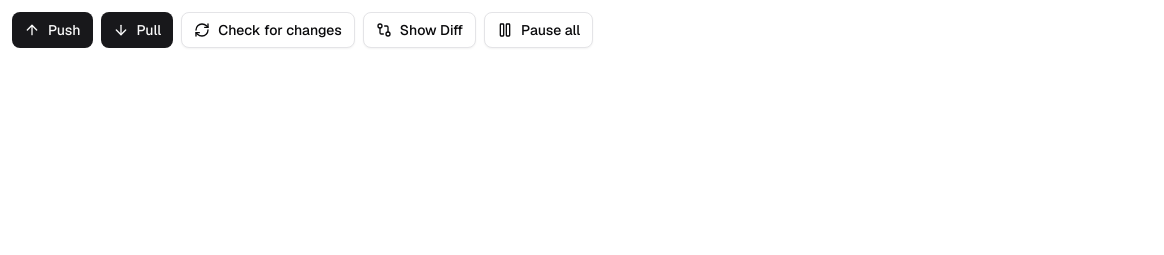
SyncControls diff delegation to ProfileDiffTabs › hides ProfileDiffTabs when Hide Diff is clicked
Click the button "Show Diff" at (419, 30), box left=363, top=12, right=476, bottom=48
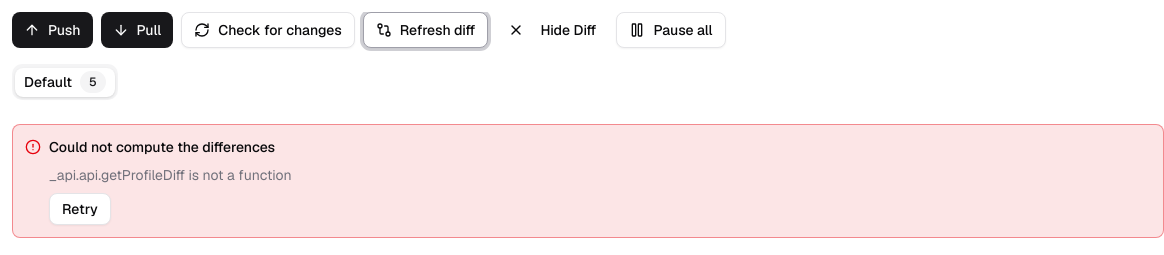
Now the element with test id "profile-diff-tabs" is shown
Click the button "Hide Diff" at (552, 30), box left=496, top=12, right=608, bottom=48
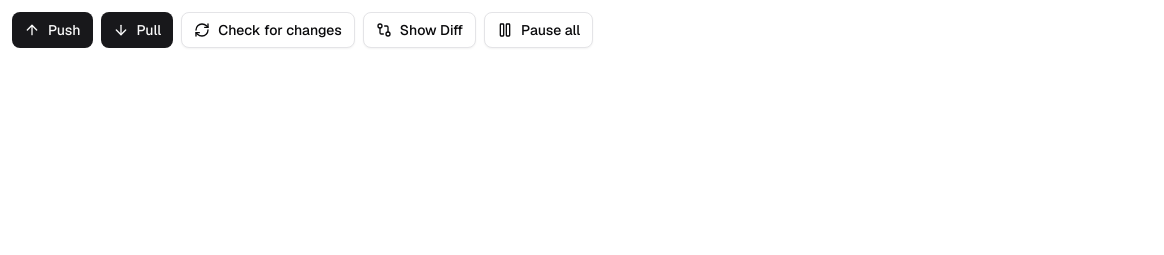
Now the element with test id "profile-diff-tabs" is gone
